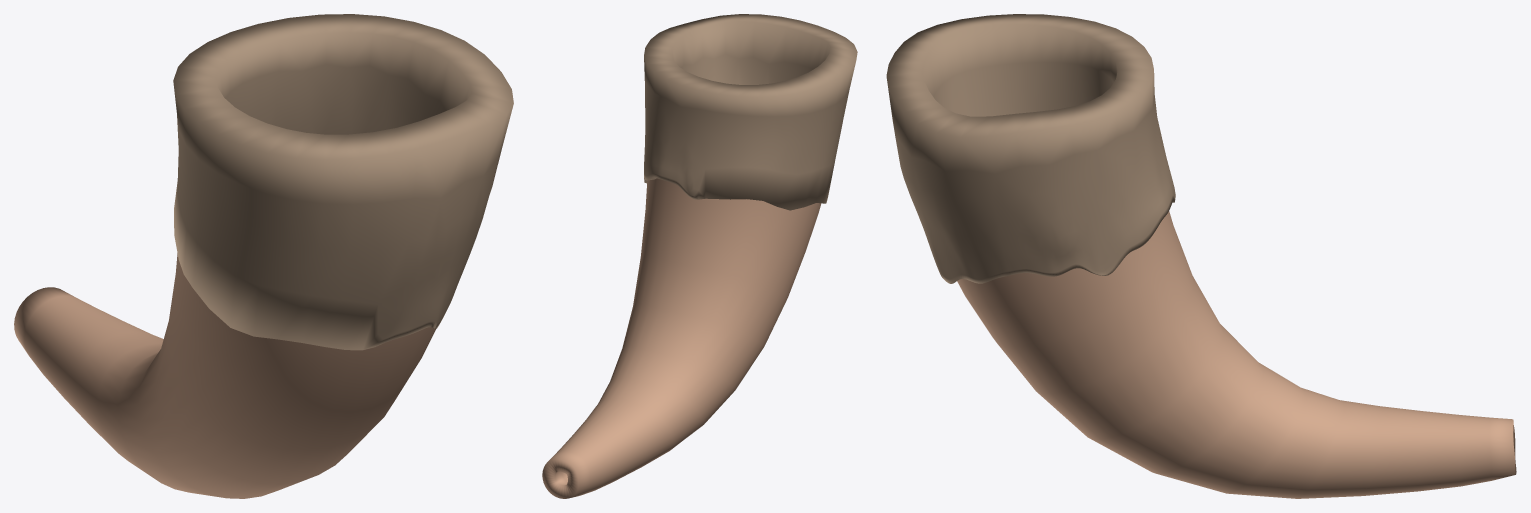
The model's file is Horn.fbx.
3 views of the same model, side by side, from view 1: azimuth 30°, elevation 25°; view 2: azimuth 150°, elevation 25°; view 3: azimuth 270°, elevation 25° (orthographic). The views are drawn at different scales.
Parts seen in each view (by area): view 1: Cube; view 2: Cube; view 3: Cube.
Part boxes in pixels (x1=…): Cube: x1=14, y1=14, x2=513, y2=498; Cube: x1=542, y1=14, x2=857, y2=498; Cube: x1=886, y1=14, x2=1516, y2=498.
Bounding box in the file's own units: 185 × 312 × 419.
